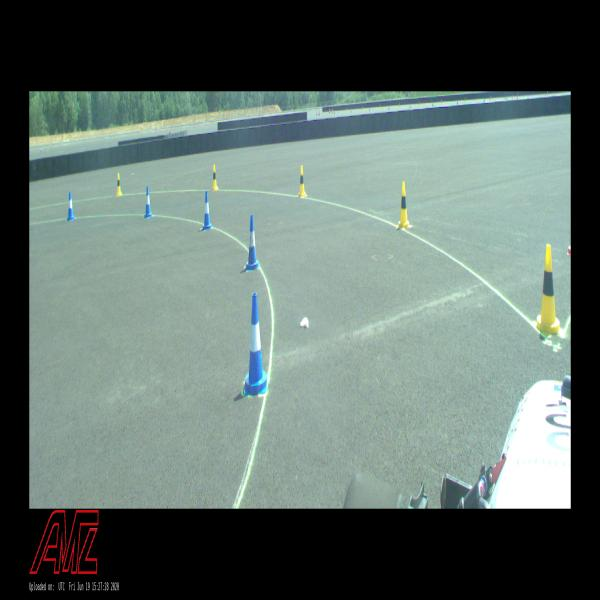blue_cone: (244, 293, 267, 394), (246, 214, 260, 270), (202, 191, 212, 230), (144, 186, 152, 218), (68, 191, 74, 221)
yellow_cone: (535, 244, 561, 334), (397, 183, 410, 229), (298, 166, 306, 198), (212, 165, 218, 190), (117, 174, 122, 195)
